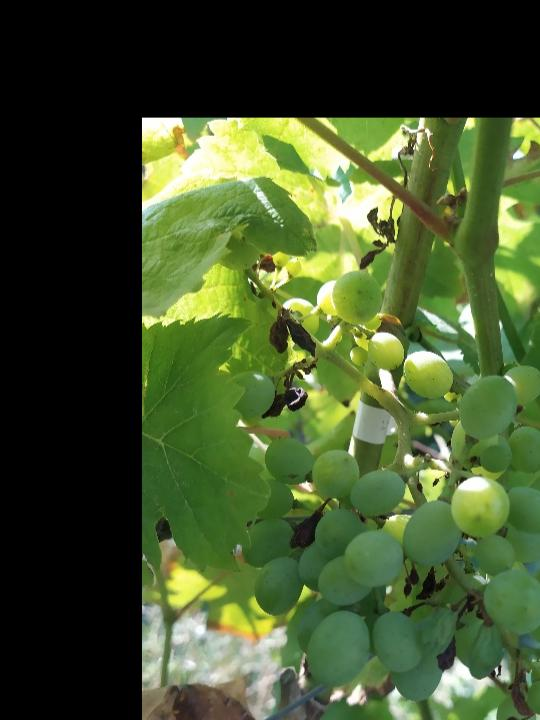grape: (225, 270, 540, 720)
